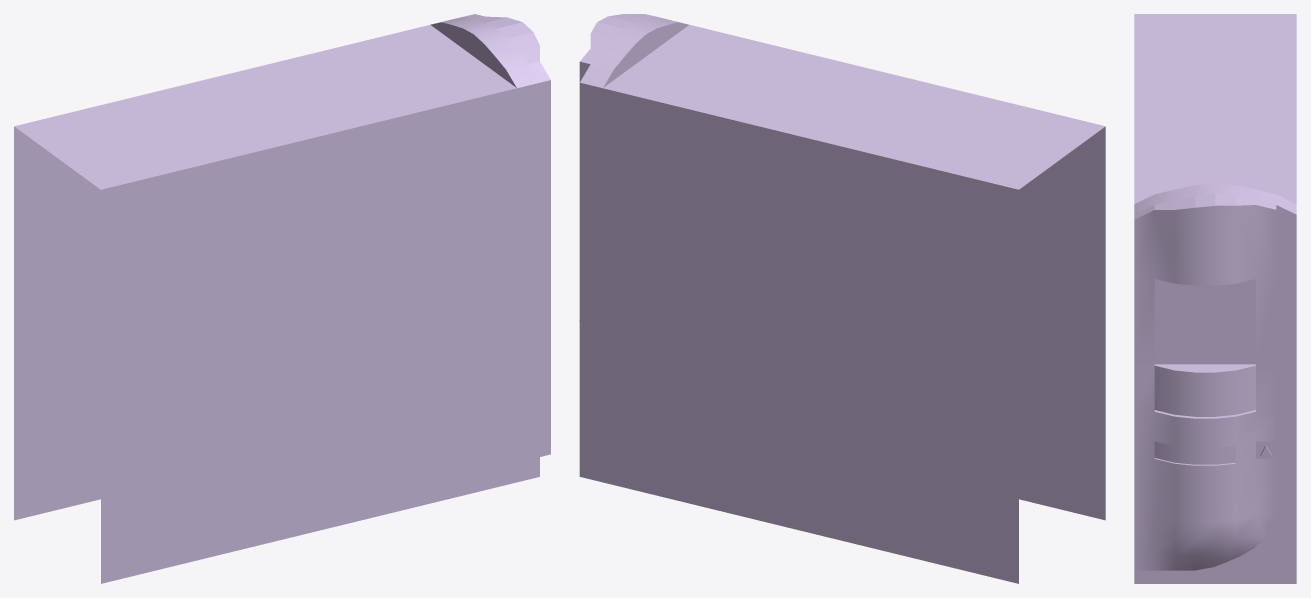
The model's file is SM_Tower_KP.fbx.
3 renders of one model, left to right at view 1: azimuth 30°, elevation 25°; view 2: azimuth 150°, elevation 25°; view 3: azimuth 270°, elevation 25°, orthographic. The views are drawn at different scales.
Parts seen in each view (by area): view 1: Tower; view 2: Tower; view 3: Tower.
Boxes of the visible parts, box(x1,y1,x2,y2) form: Tower: box(14, 14, 550, 583); Tower: box(579, 14, 1105, 583); Tower: box(1134, 14, 1296, 583).
Size of the model in its own units: 0.7788 by 0.6661 by 0.2515.
